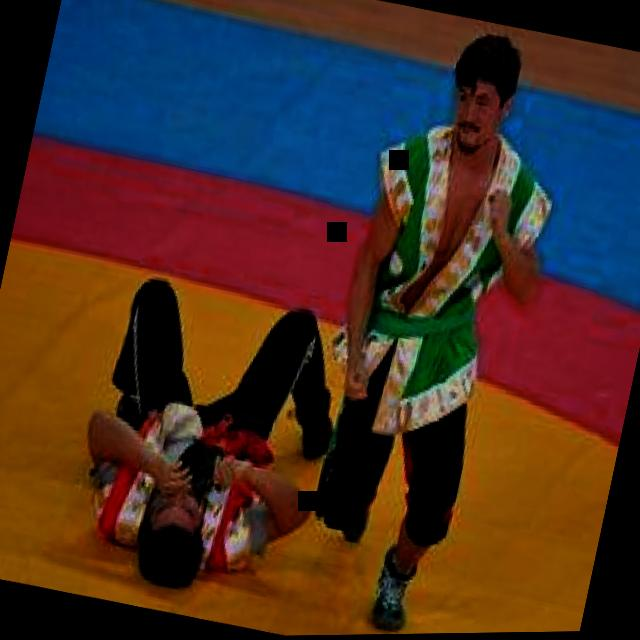Fall-Detected: (55, 240, 368, 626)
